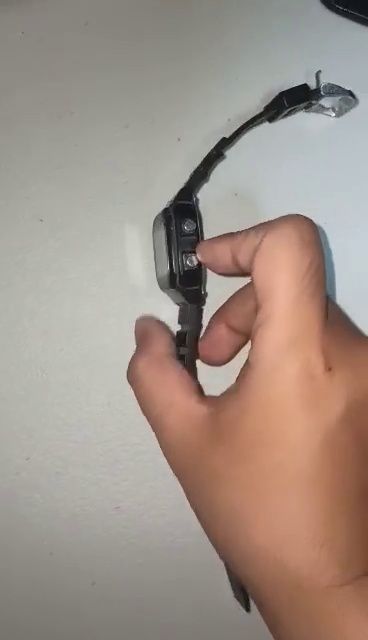watch: (149, 83, 360, 384)
